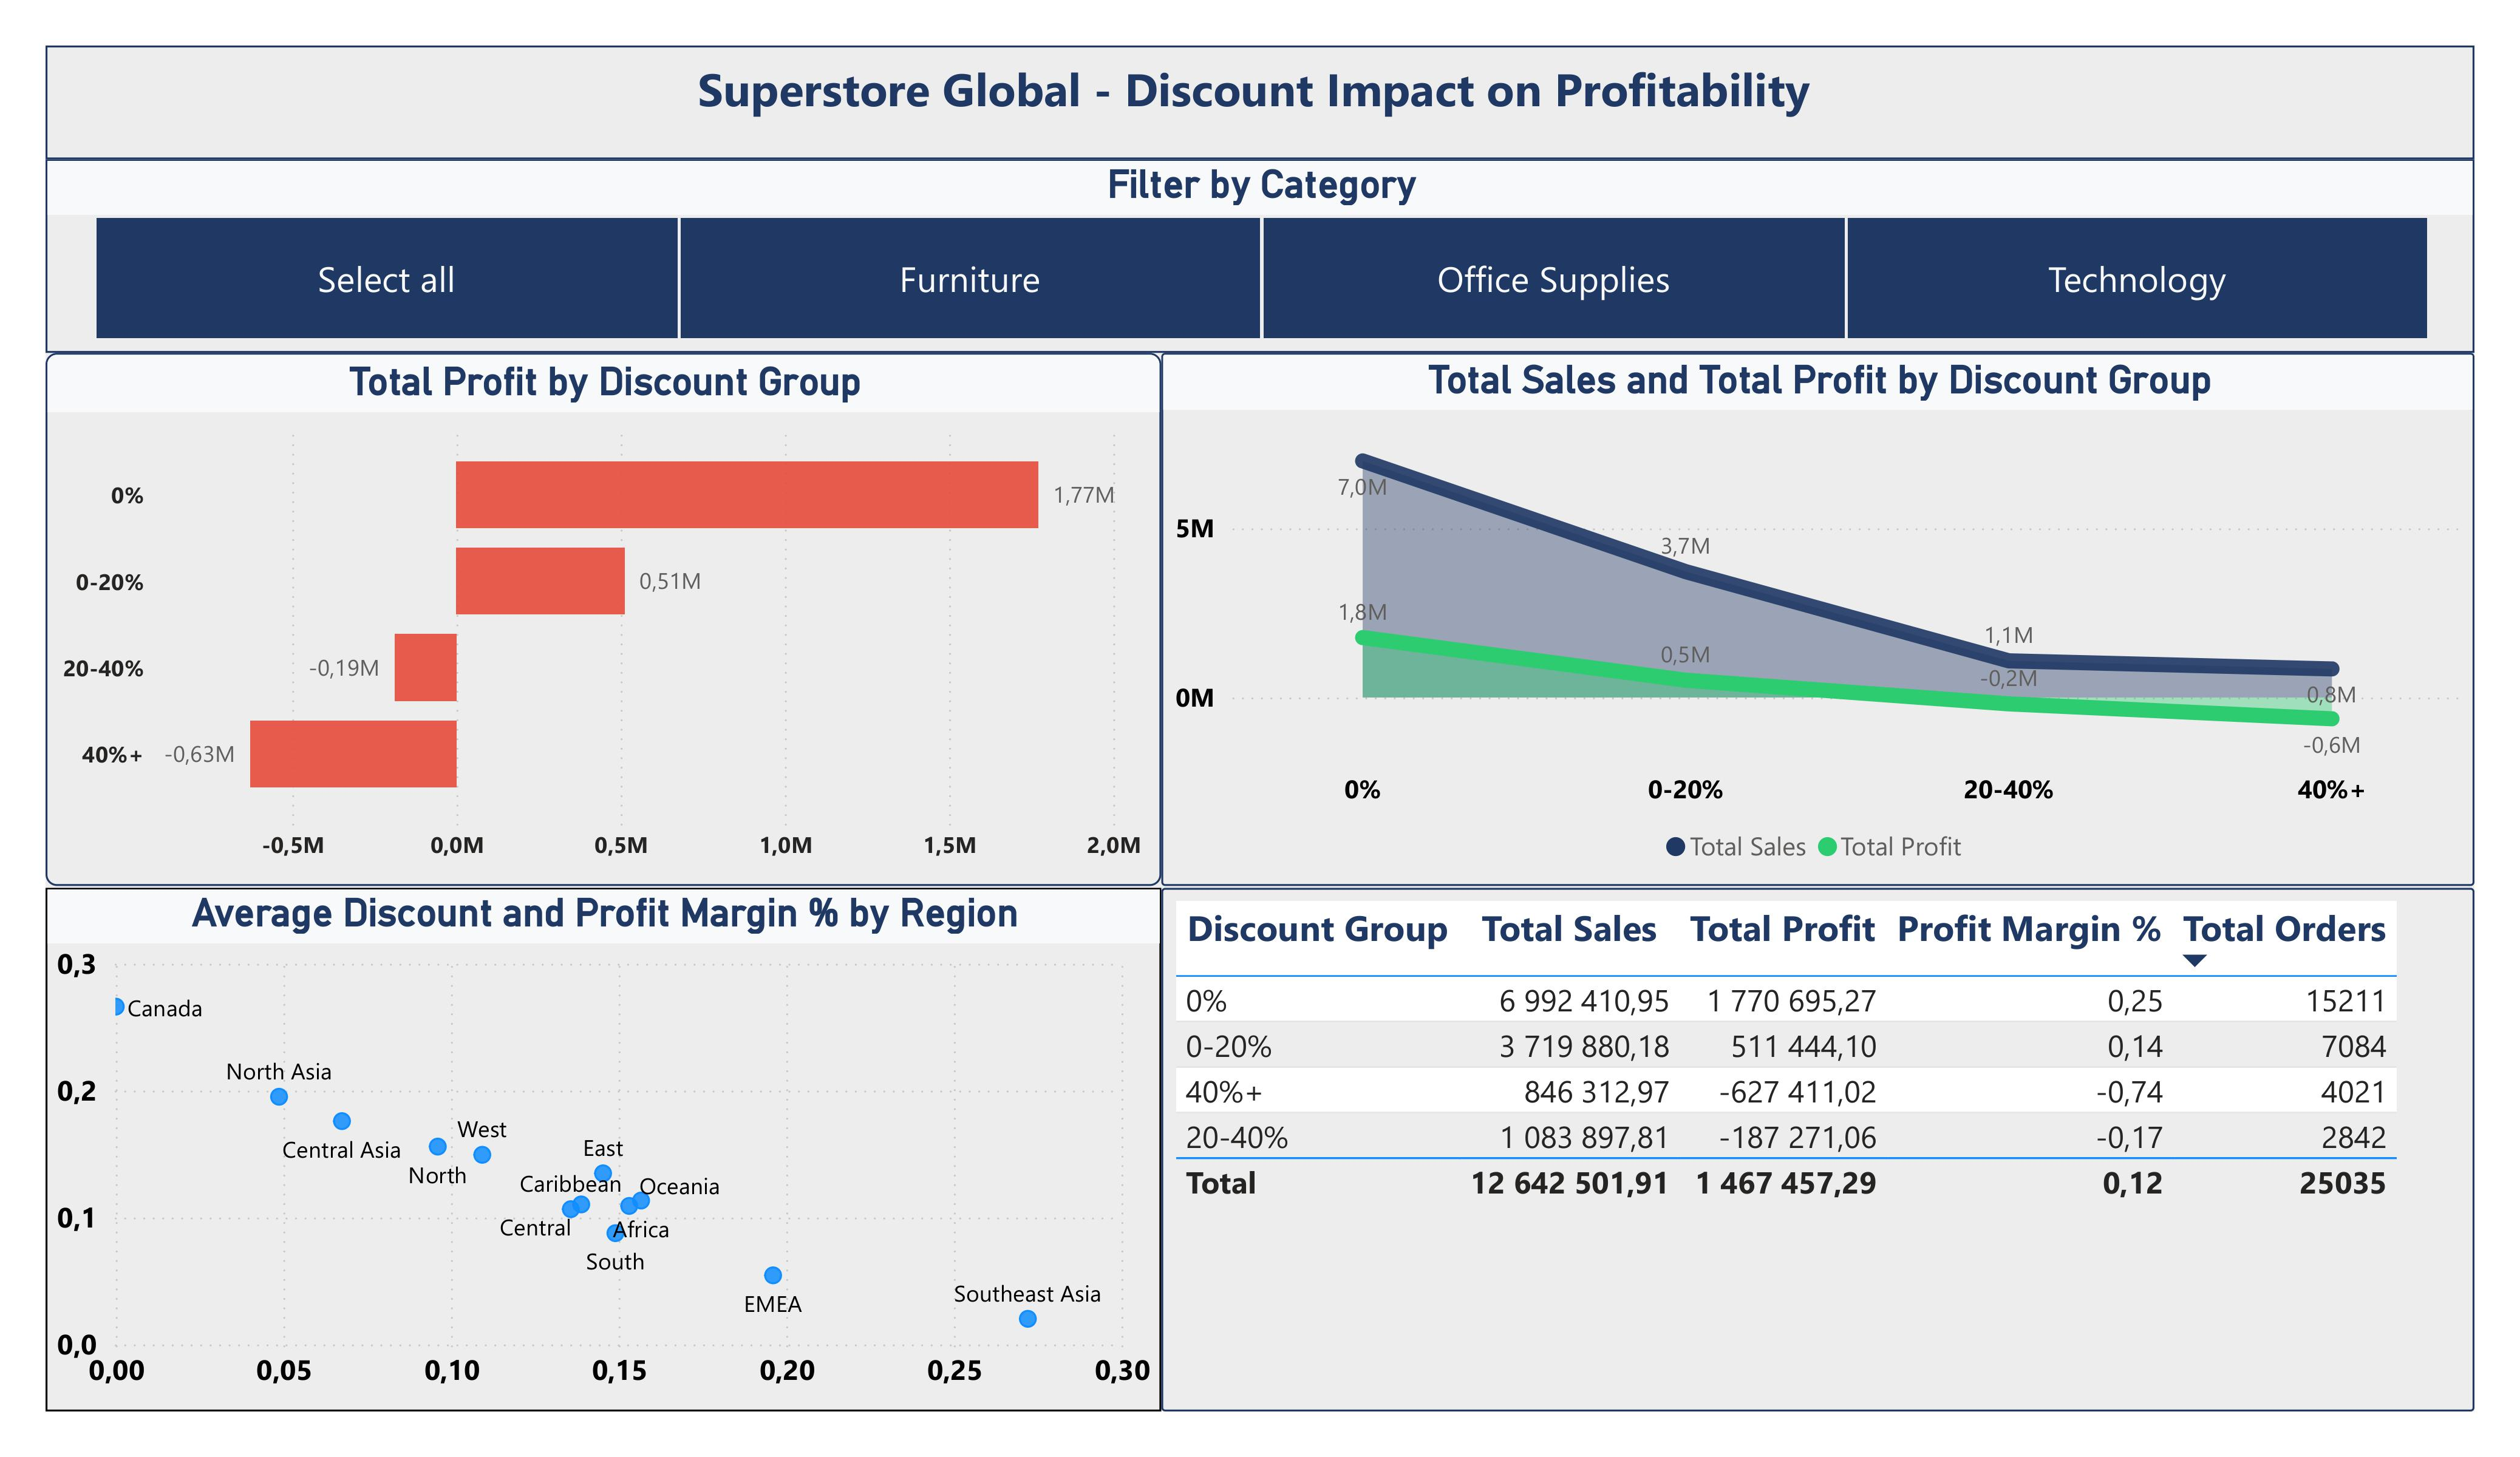

The page's visual inventory and layout, read from the dashboard file:
{"tool":"powerbi","page":{"name":"Discount Impact","canvas":[1280,720],"ordinal":3},"visuals":[{"type":"textbox","box":[0,0,1280,60],"z":0},{"type":"clusteredBarChart","fields":{"Category":["Sheet1.Discount Group "],"Y":["Sheet1.Total Profit"]},"box":[0,161.7,588.3,281.7],"z":1000},{"type":"scatterChart","fields":{"X":["Sheet1.Average Discount"],"Y":["Sheet1.Profit Margin %"],"Category":["Sheet1.Region"]},"box":[0,444,588,276],"z":2000},{"type":"lineChart","fields":{"Category":["Sheet1.Discount Group "],"Y":["Sheet1.Total Sales","Sheet1.Total Profit"]},"box":[588.3,161.7,691.7,281.7],"z":3000},{"type":"tableEx","fields":{"Values":["Sheet1.Discount Group ","Sheet1.Total Sales","Sheet1.Total Profit","Sheet1.Profit Margin %","Sheet1.Total Orders"]},"box":[588,444,692,276],"z":4000},{"type":"slicer","title":"Filter by Category","fields":{"Values":["Sheet1.Category"]},"box":[0,60,1280,101.7],"z":5000}]}

Visuals, with their boxes on the page's 1280x720 design canvas (x1, y1, x2, y2). These are canvas units, not pixel positions in the 2520x1457 screenshot, which may show the page scaled, cropped or inside an application window:
textbox: pyautogui.locateOnScreen(0, 0, 1280, 60)
clusteredBarChart - Sheet1.Discount Group  x Sheet1.Total Profit: pyautogui.locateOnScreen(0, 162, 588, 443)
scatterChart - Sheet1.Average Discount x Sheet1.Profit Margin %: pyautogui.locateOnScreen(0, 444, 588, 720)
lineChart - Sheet1.Discount Group  x Sheet1.Total Sales: pyautogui.locateOnScreen(588, 162, 1280, 443)
tableEx - Sheet1.Discount Group  x Sheet1.Total Sales: pyautogui.locateOnScreen(588, 444, 1280, 720)
"Filter by Category" slicer: pyautogui.locateOnScreen(0, 60, 1280, 162)
